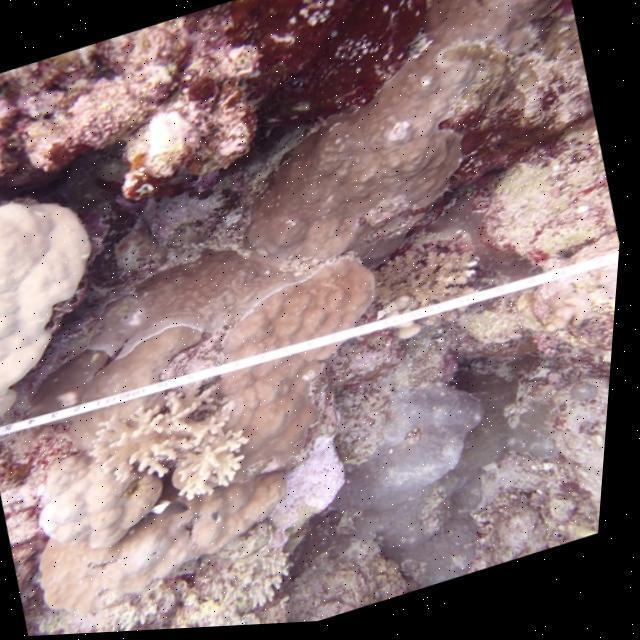Bleached Coral: (0, 158, 96, 417), (96, 402, 238, 493), (34, 478, 98, 548)
